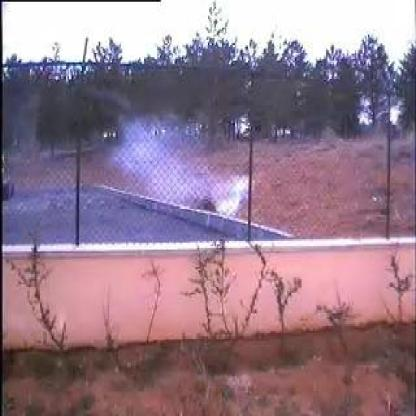-: (63, 107, 250, 245)
